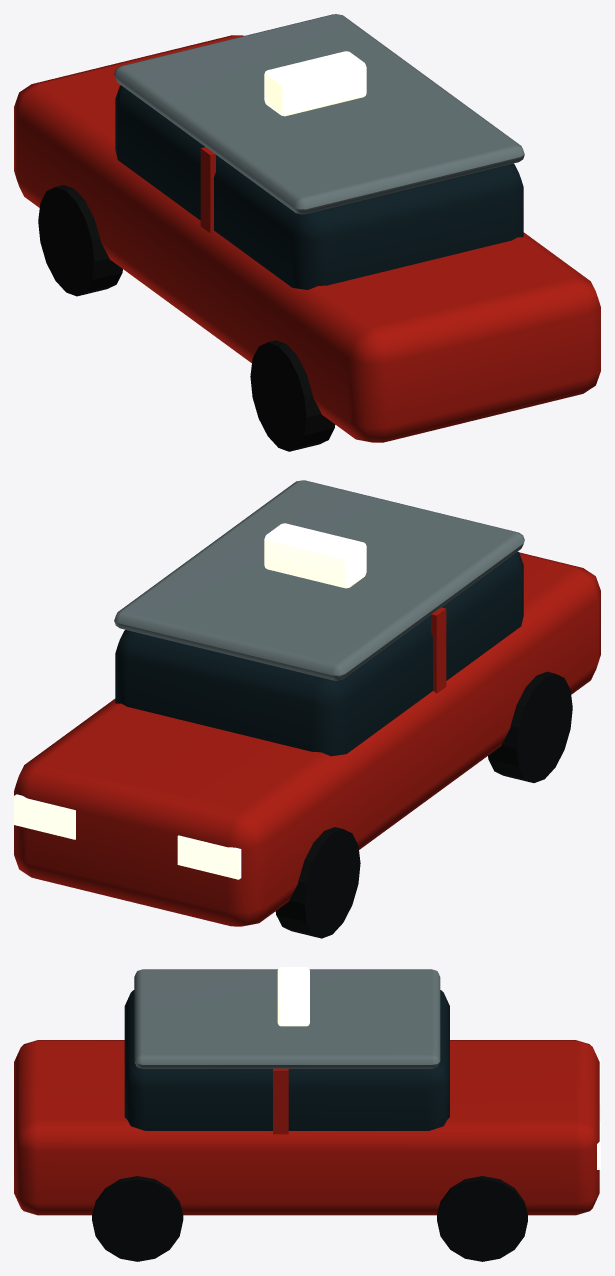
File: taxi.glb
The picture shows the model from 3 angles, top to bottom: view 1: azimuth 30°, elevation 25°; view 2: azimuth 150°, elevation 25°; view 3: azimuth 270°, elevation 25°; orthographic projection. The views are drawn at different scales.
Visible parts, largest first — view 1: taxi_Body.003; view 2: taxi_Body.003; view 3: taxi_Body.003.
Part boxes in pixels (x1,y1,x2,y2): taxi_Body.003: (14,14,600,451); taxi_Body.003: (14,480,600,938); taxi_Body.003: (14,967,600,1261).
Size of the model in its own units: 1.92 by 1.92 by 4.51.
